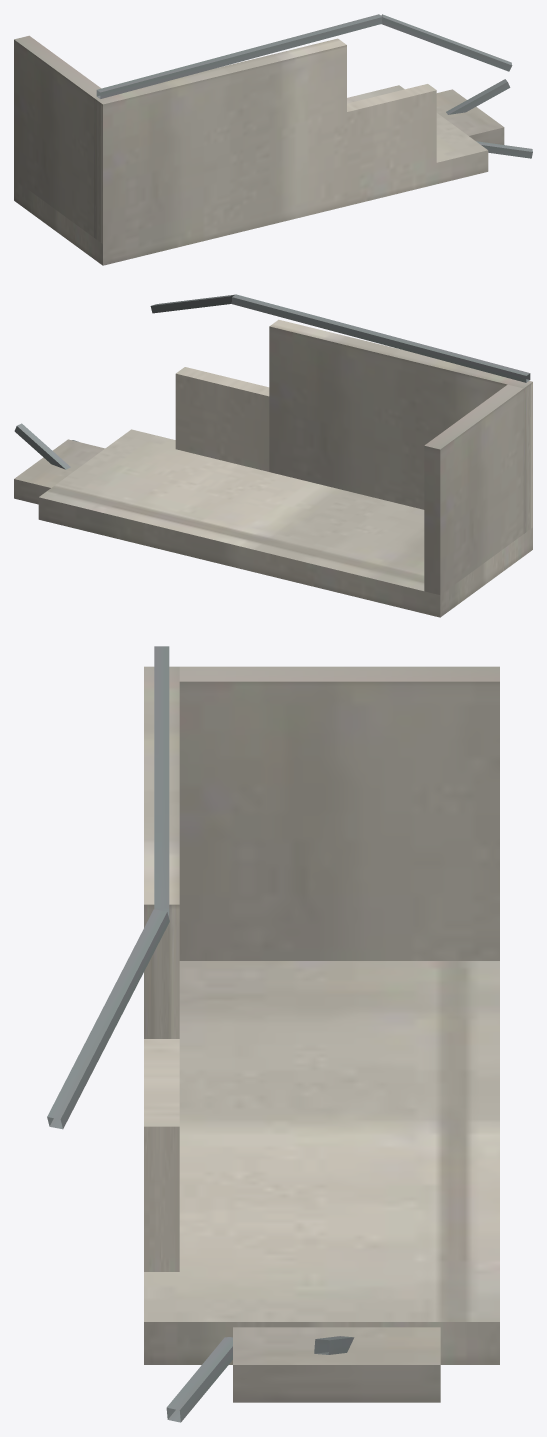
Rendered from debris_tokyo_balcony_slab.glb.
The picture shows the model from 3 angles, top to bottom: view 1: azimuth 30°, elevation 25°; view 2: azimuth 150°, elevation 25°; view 3: azimuth 270°, elevation 25°; orthographic projection. The views are drawn at different scales.
Visible parts, largest first — view 1: debris_tokyo_balcony_slab; view 2: debris_tokyo_balcony_slab; view 3: debris_tokyo_balcony_slab.
Part boxes in pixels (bbox=[...]): debris_tokyo_balcony_slab: bbox=[14, 14, 532, 265]; debris_tokyo_balcony_slab: bbox=[14, 294, 532, 617]; debris_tokyo_balcony_slab: bbox=[47, 646, 499, 1422].
Bounding box in the file's own units: 3.52 × 1.35 × 1.53.
1 material, 1 textured.
